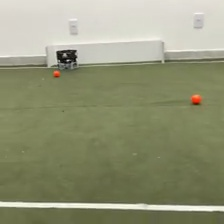ball: (190, 92, 202, 105), (51, 68, 61, 77)
goal: (44, 37, 166, 69)
robot: (55, 48, 78, 72)
